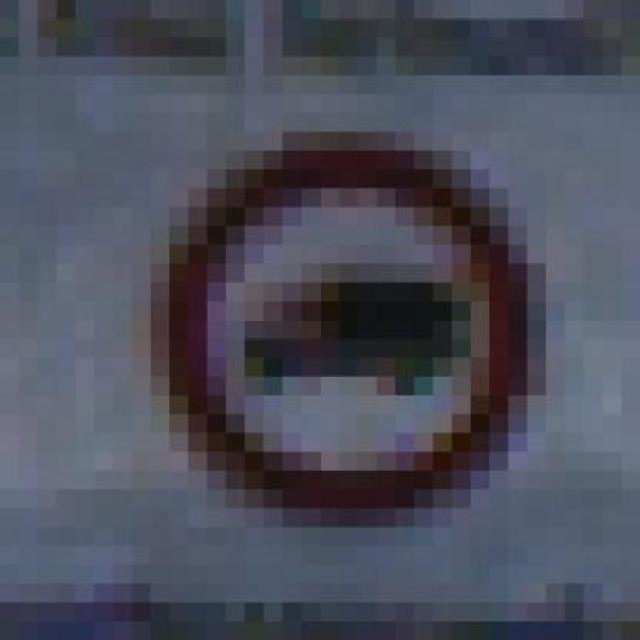Truck traffic is prohibited: (132, 94, 566, 546)
